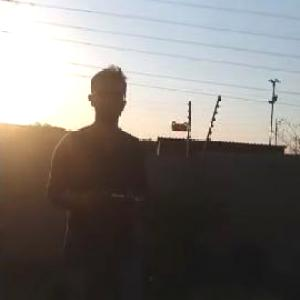follow: (44, 61, 154, 299)
